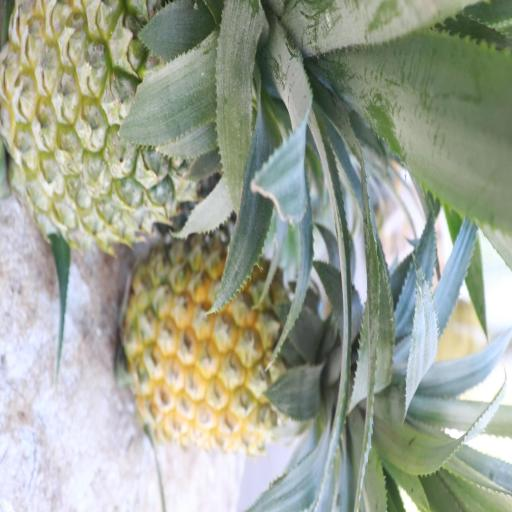------------------------------: (3, 1, 309, 245)
Pineapple - v8 v1: (132, 244, 385, 449)
